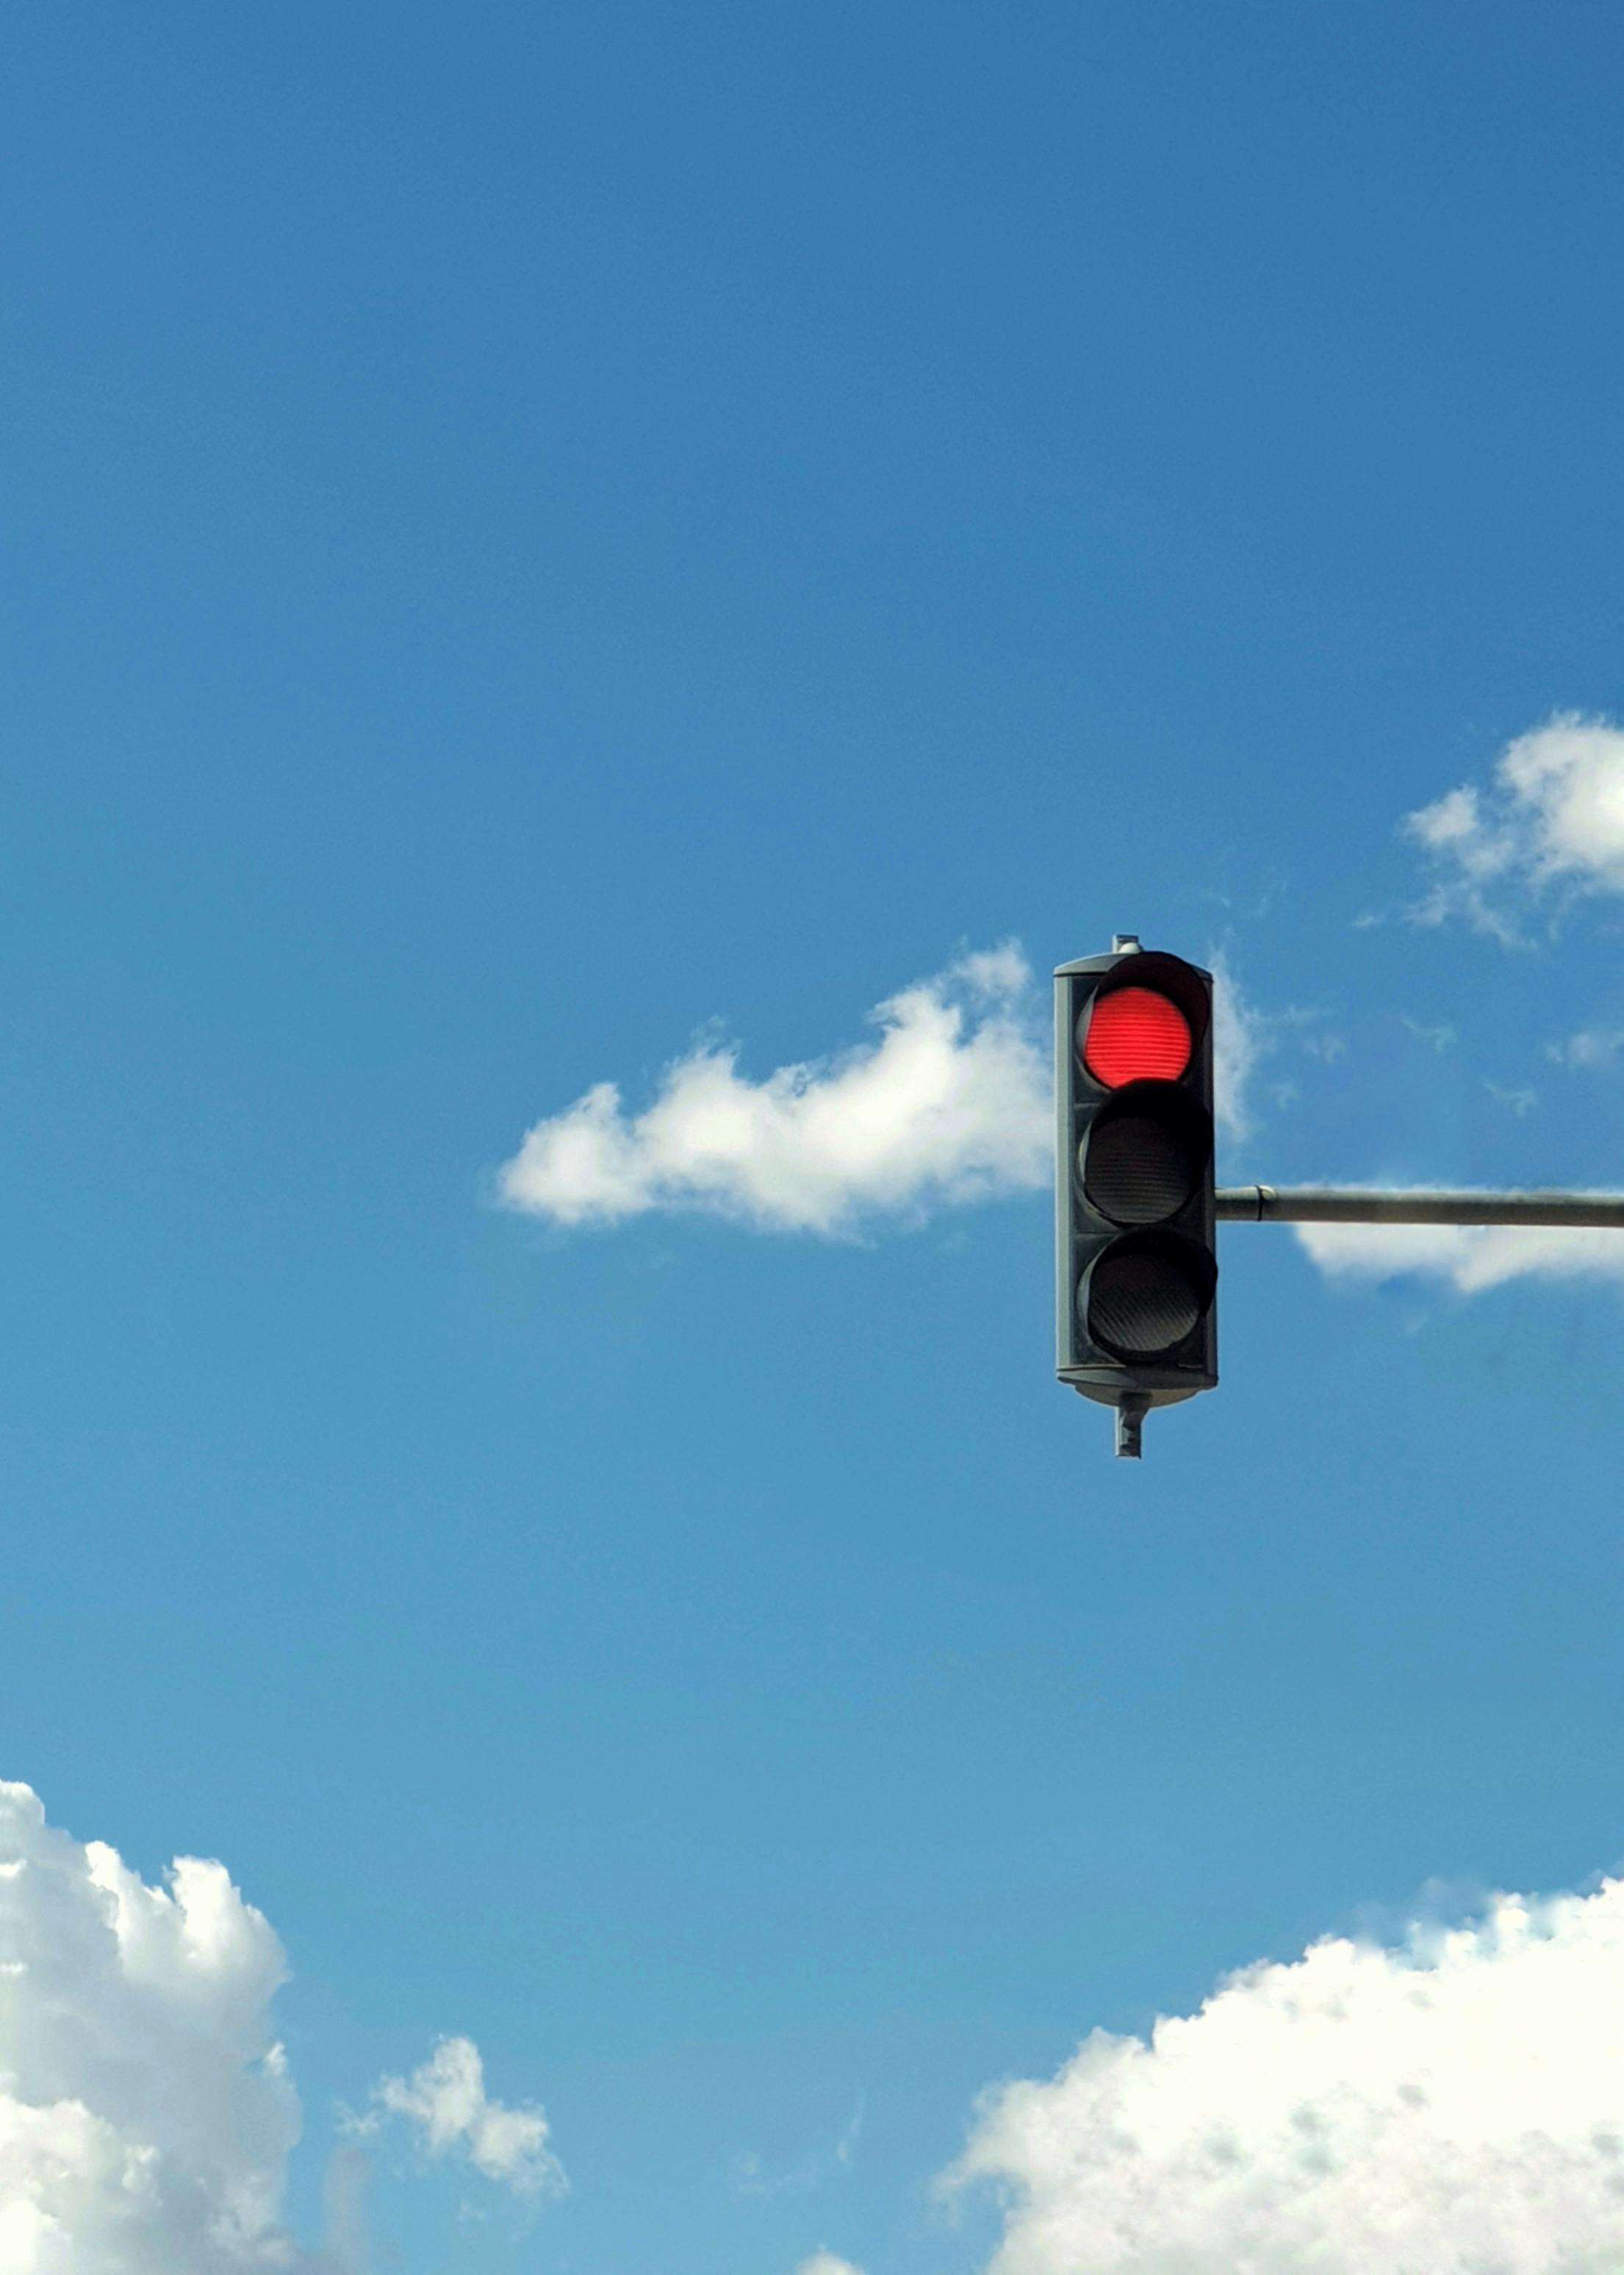trfl: (1044, 942, 1243, 1410)
